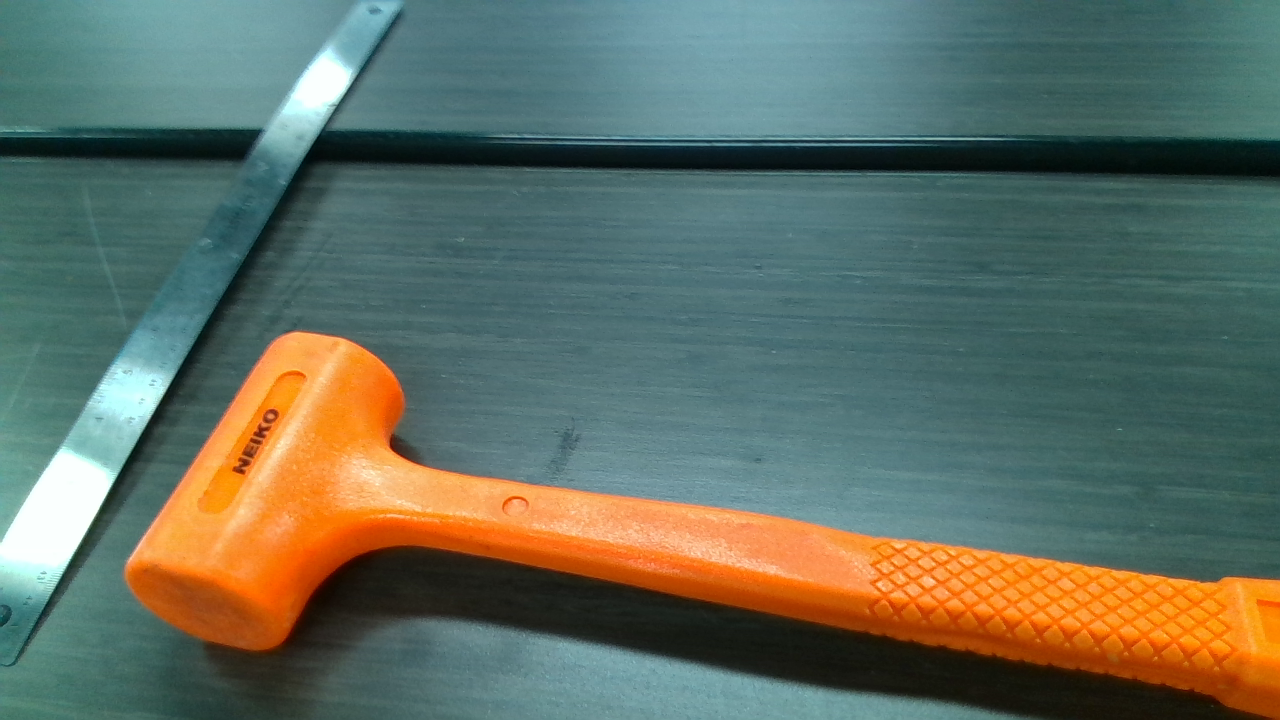Orange Hammer: (138, 332, 1275, 720)
